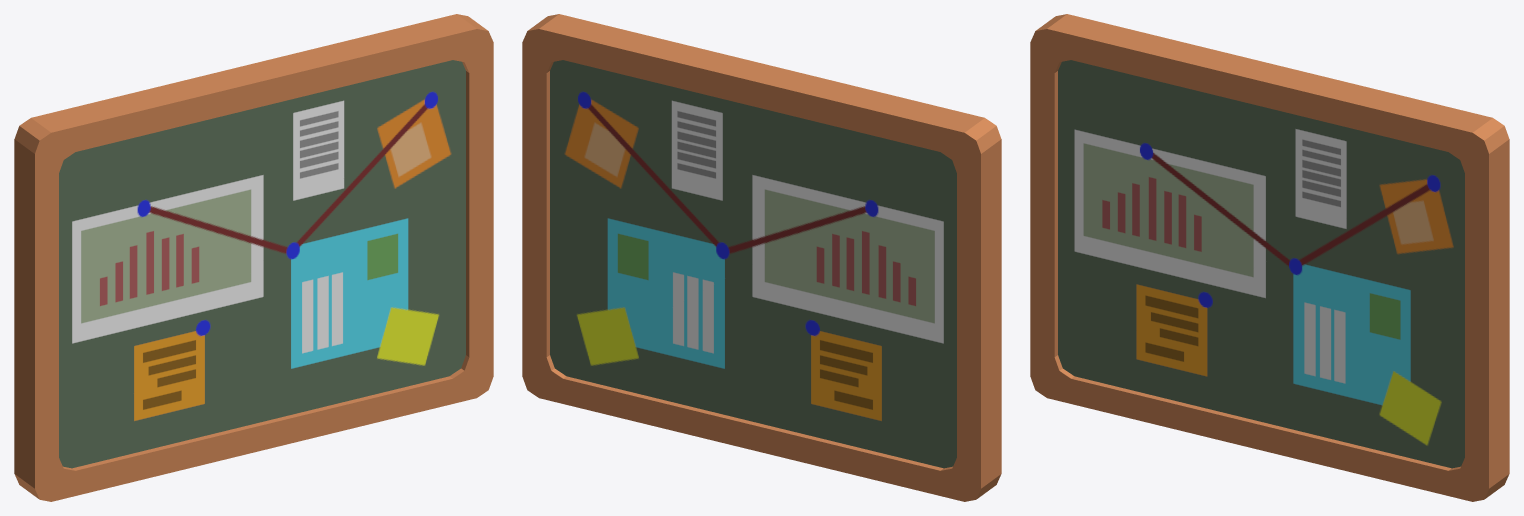
The model's file is Props_Poster_01.fbx.
3 views of the same model, side by side, from view 1: azimuth 30°, elevation 25°; view 2: azimuth 150°, elevation 25°; view 3: azimuth 330°, elevation 25° (orthographic).
Parts seen in each view (by area): view 1: Props_Poster_01; view 2: Props_Poster_01; view 3: Props_Poster_01.
Part boxes in pixels (x1=…): Props_Poster_01: x1=14, y1=14, x2=493, y2=501; Props_Poster_01: x1=522, y1=14, x2=1001, y2=501; Props_Poster_01: x1=1030, y1=14, x2=1509, y2=501.
Bounding box in the file's own units: 130 × 100 × 10.
